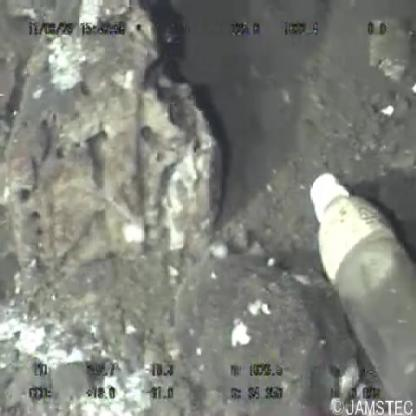Rác: (307, 163, 416, 396)
